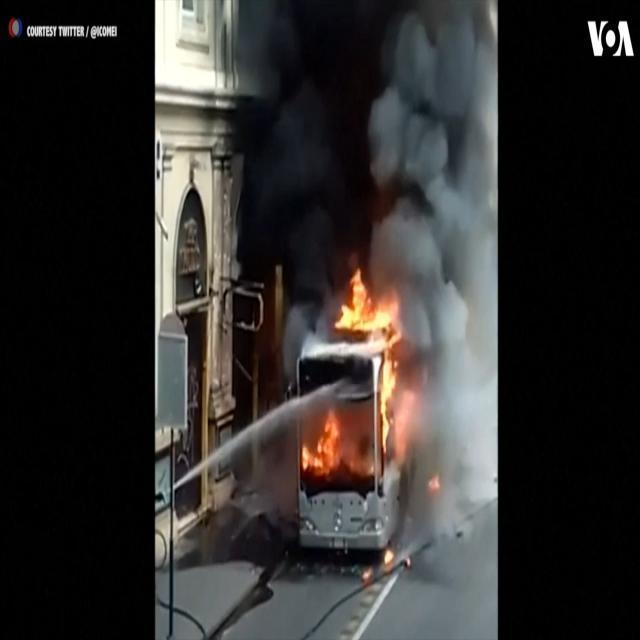fire: (300, 278, 414, 509)
